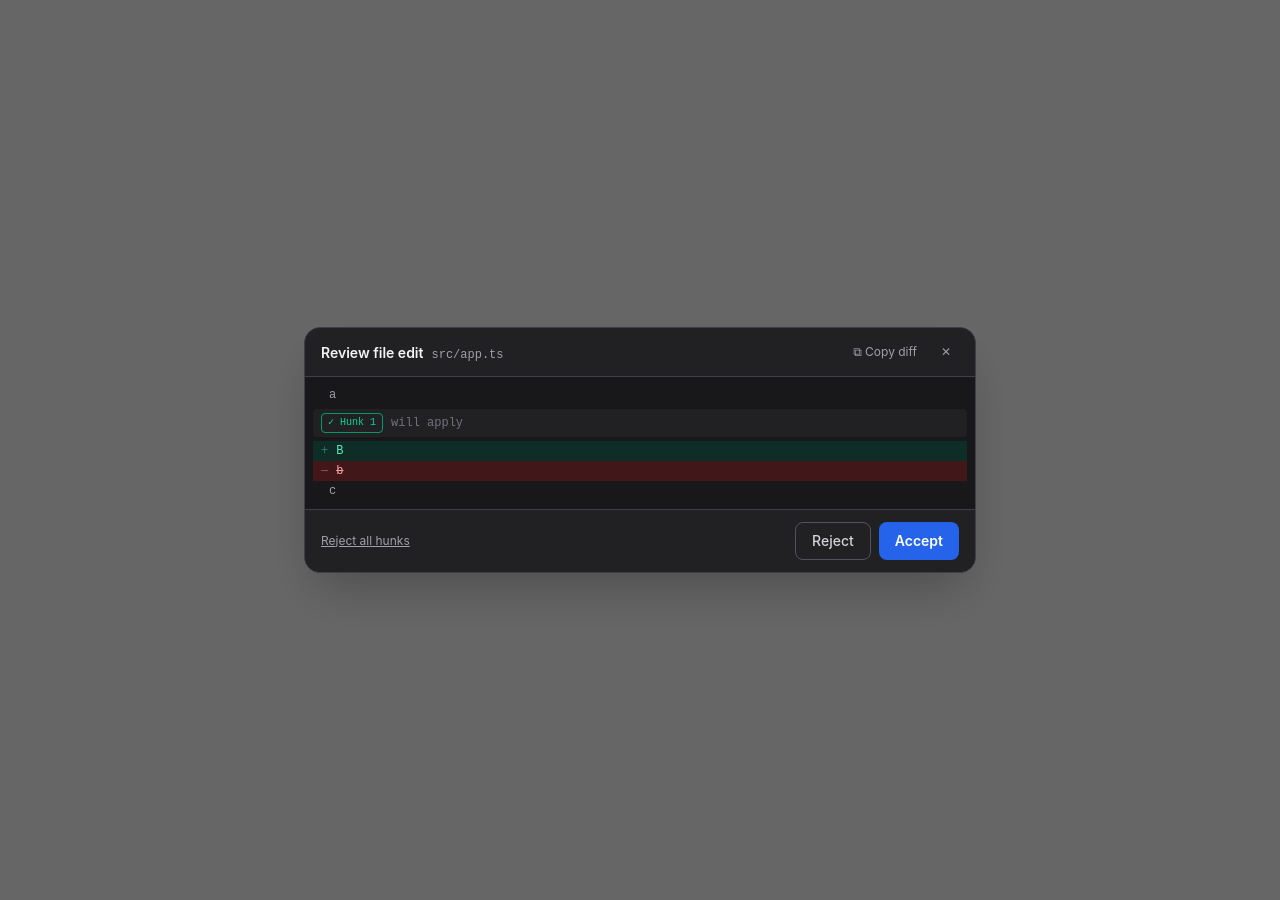
Copy-diff button in DiffReviewModal (#370) › shows "Copied" feedback after clicking
Click the button with aria-label "Copy diff to clipboard" at (885, 352), box [845,340,925,364]
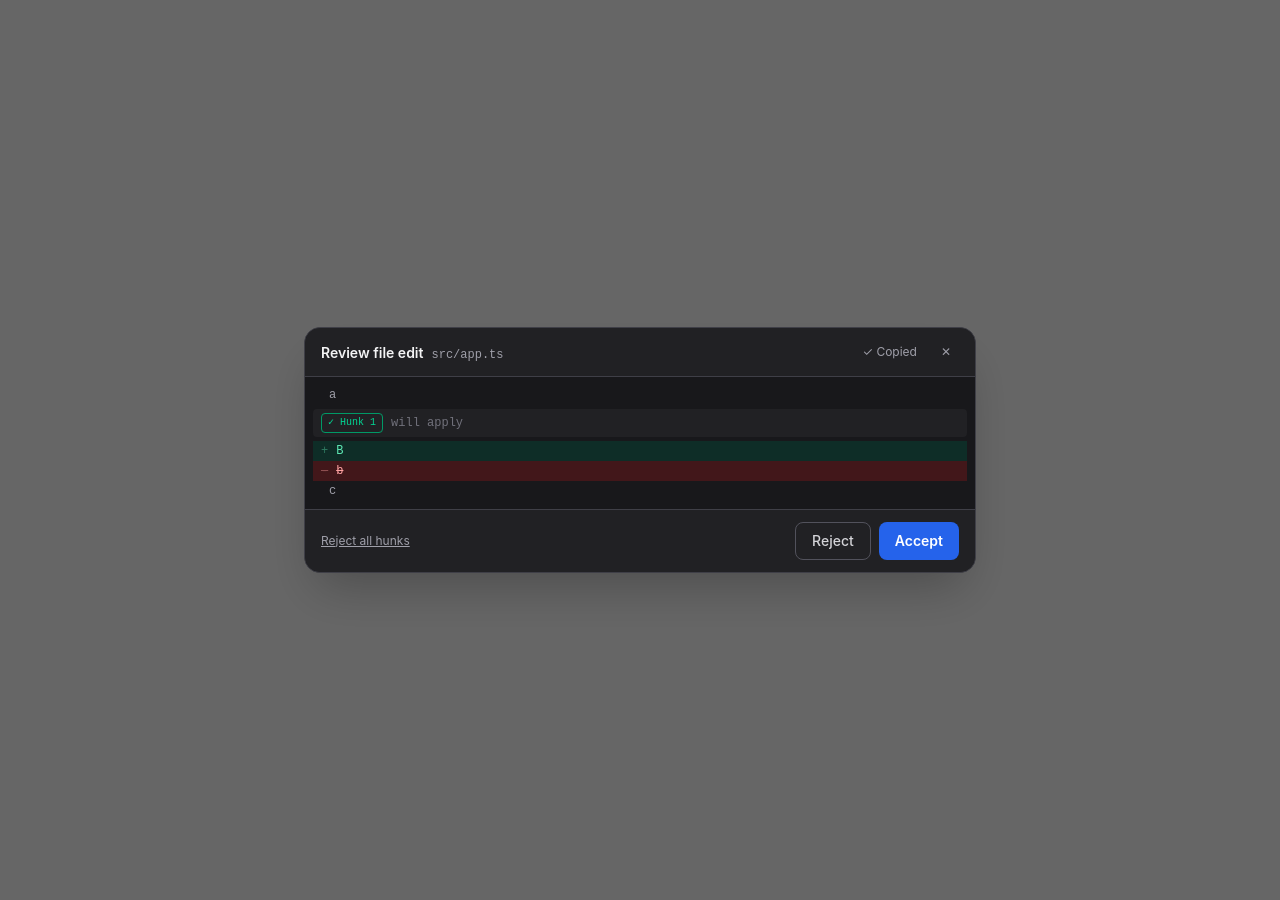
Check: the button with aria-label "Copy diff to clipboard" shows "Copied", box [854,340,925,364]
